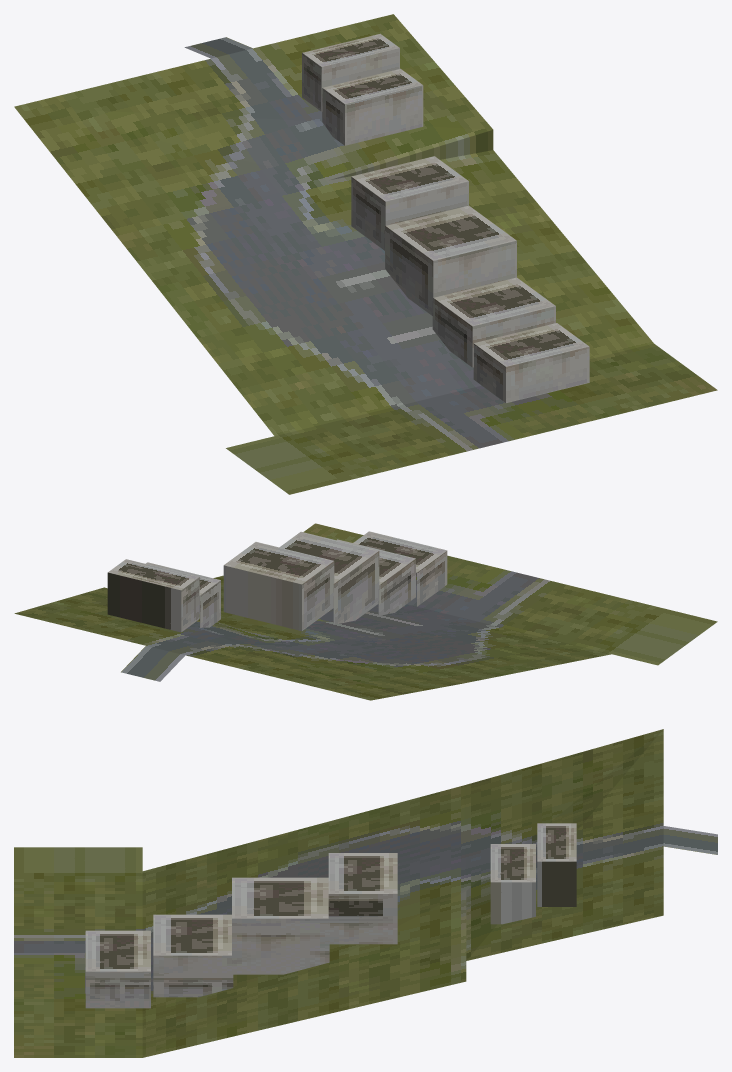
File: lodxbld4_sfwa.obj
3 renders of one model, top to bottom at view 1: azimuth 30°, elevation 25°; view 2: azimuth 150°, elevation 25°; view 3: azimuth 270°, elevation 25°, orthographic. The views are drawn at different scales.
Visible parts, largest first — view 1: LODxbld4_sfwa; view 2: LODxbld4_sfwa; view 3: LODxbld4_sfwa.
Boxes of the visible parts, box(x1,y1,x2,y2) form: LODxbld4_sfwa: box(14, 14, 717, 494); LODxbld4_sfwa: box(14, 523, 717, 700); LODxbld4_sfwa: box(14, 729, 717, 1057).
Bounding box in the file's own units: 49.56 × 18.38 × 69.99.
Materials: 3 (3 with a texture image).
